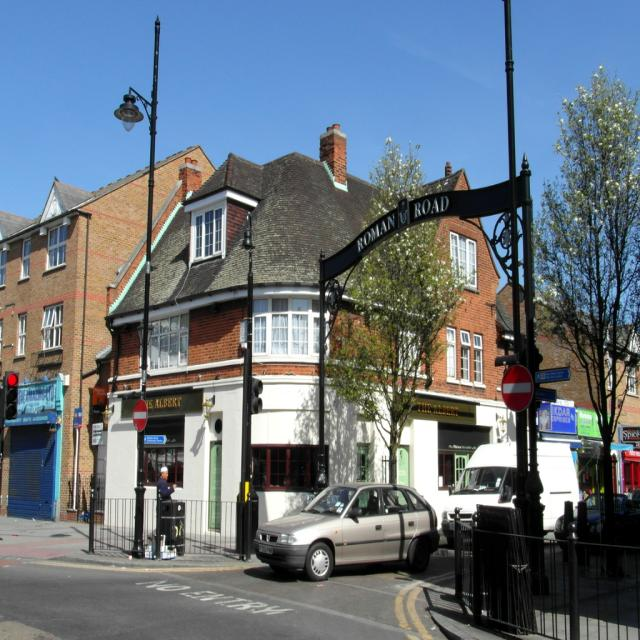car: (248, 482, 449, 583)
